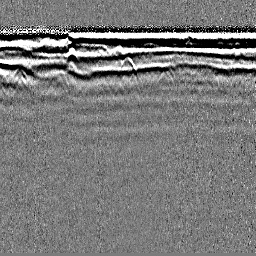cavity: (117, 56, 137, 76)
